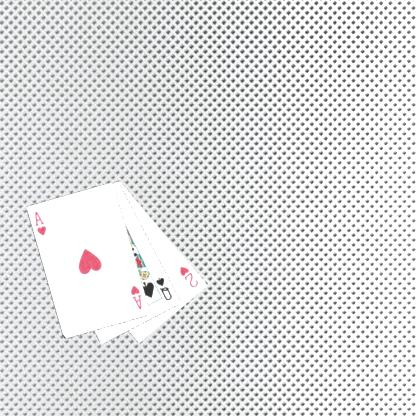2H: (177, 264, 200, 289)
AH: (32, 209, 48, 237), (128, 283, 143, 311)
QS: (153, 274, 173, 302)
